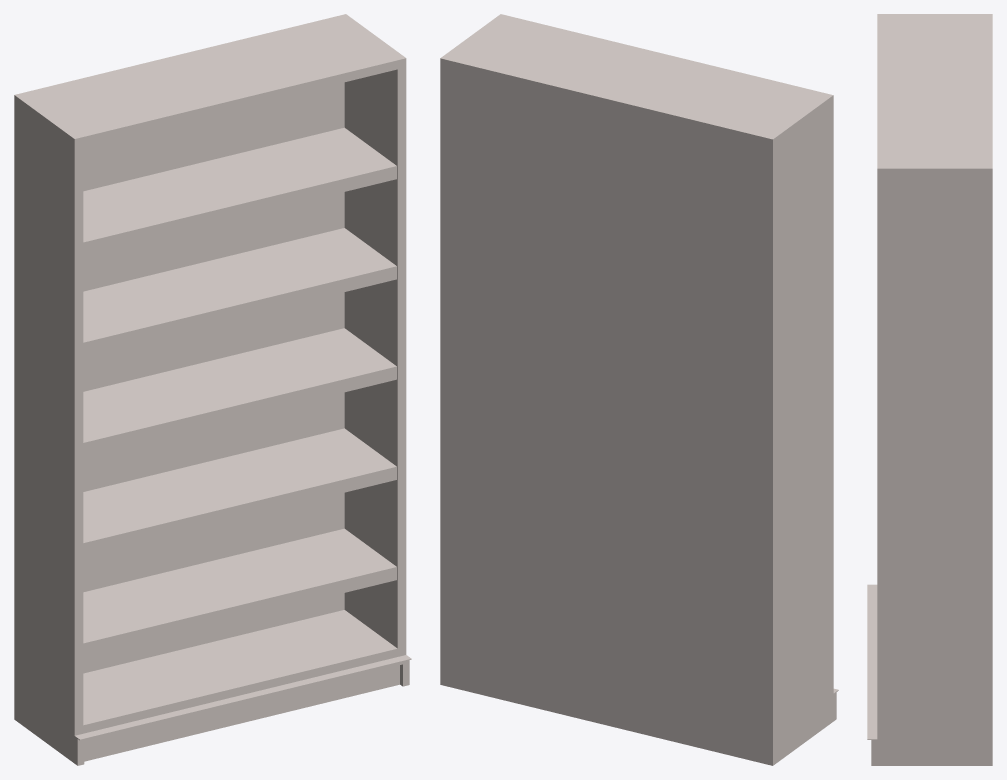
File: Cupboard_04_01.fbx
3 views of the same model, side by side, from view 1: azimuth 30°, elevation 25°; view 2: azimuth 150°, elevation 25°; view 3: azimuth 270°, elevation 25° (orthographic). The views are drawn at different scales.
Visible parts, largest first — view 1: Cupboard_04_01; view 2: Cupboard_04_01; view 3: Cupboard_04_01.
Part boxes in pixels (x1,y1,x2,y2): Cupboard_04_01: [14, 14, 411, 765]; Cupboard_04_01: [440, 14, 838, 765]; Cupboard_04_01: [867, 14, 992, 765].
Size of the model in its own units: 115 by 208 by 39.57.
